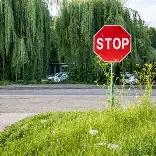Stop: (93, 25, 131, 62)
